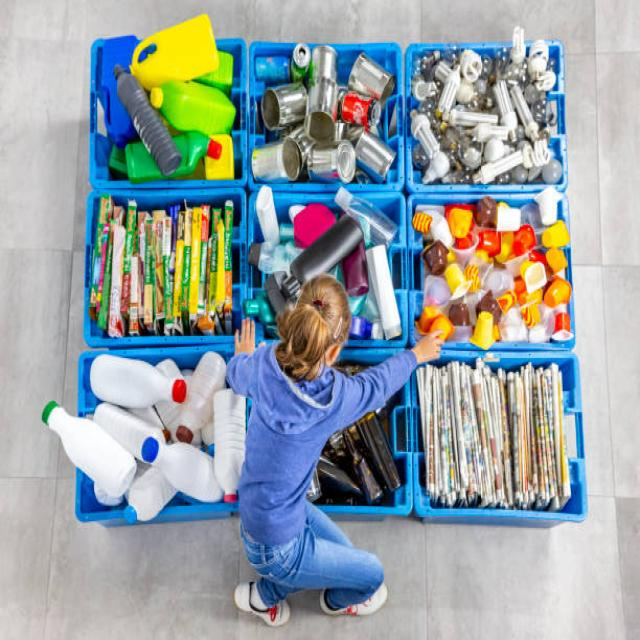metal: (268, 65, 374, 170)
paper: (418, 379, 564, 489)
plastic: (91, 357, 230, 496), (432, 216, 567, 337), (108, 43, 230, 173), (258, 208, 387, 302)
